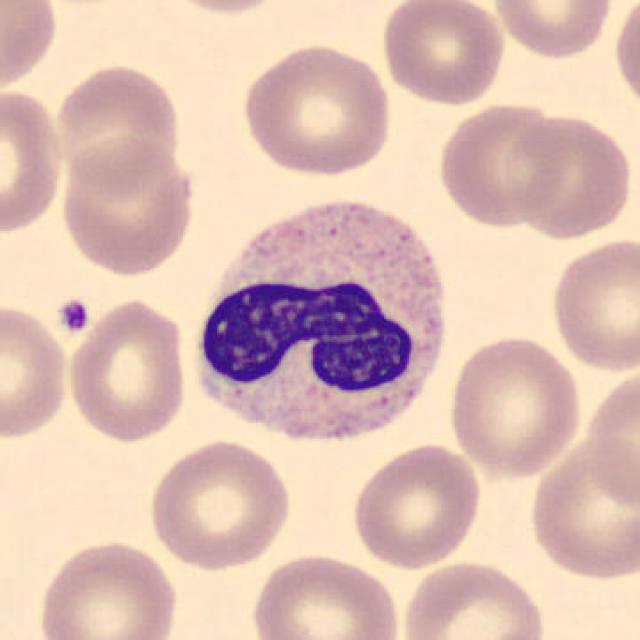Neutrophil: (184, 187, 458, 462)
Platelets: (54, 294, 92, 337)
RBC: (236, 39, 394, 178), (57, 134, 201, 279), (444, 332, 586, 479), (144, 435, 295, 573), (64, 294, 192, 446), (51, 58, 185, 196), (347, 439, 485, 571), (434, 99, 570, 231), (524, 432, 638, 584), (505, 110, 635, 242), (32, 536, 183, 640), (247, 550, 405, 640), (377, 0, 508, 108), (546, 234, 638, 376), (397, 557, 551, 640), (0, 83, 68, 238), (0, 300, 73, 442), (580, 370, 640, 527), (489, 0, 617, 62), (0, 0, 62, 95), (610, 0, 640, 116), (149, 0, 297, 18)
